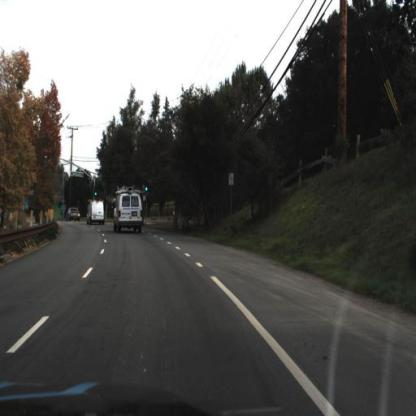car: (112, 189, 143, 236), (87, 198, 106, 229), (67, 208, 81, 224)
trafficLight-Green: (145, 181, 154, 198), (94, 186, 102, 201)
